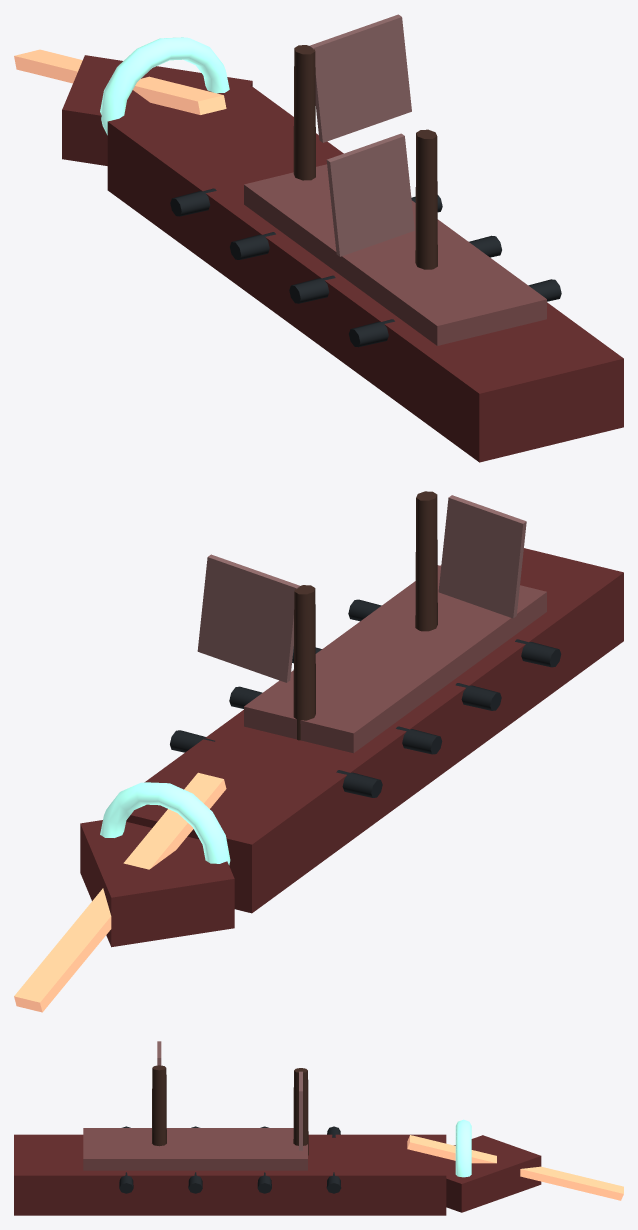
The model's file is ship_main_55.glb.
3 renders of one model, top to bottom at view 1: azimuth 30°, elevation 25°; view 2: azimuth 150°, elevation 25°; view 3: azimuth 270°, elevation 25°, orthographic. The views are drawn at different scales.
Visible parts, largest first — view 1: Hull, Deck_0, Sail_0, Sail_1, Bow, OpenCrescentProw, ProwIdentity, Mast_1, Mast_0, Gun_P_2, Gun_P_0, Gun_P_1 (+1 smaller); view 2: Hull, Deck_0, Bow, Sail_0, Sail_1, ProwIdentity, OpenCrescentProw, Mast_1, Mast_0, Gun_P_2, Gun_P_0, Gun_P_1 (+1 smaller); view 3: Hull, Deck_0, Bow, ProwIdentity, Mast_1, OpenCrescentProw, Mast_0, Sail_0.
Boxes of the visible parts, x1,y1,x2,y2 form: Hull: (107, 86, 623, 462); Deck_0: (244, 164, 546, 345); Sail_0: (309, 14, 411, 142); Sail_1: (326, 133, 414, 256); Bow: (62, 55, 252, 165); OpenCrescentProw: (100, 37, 229, 135); ProwIdentity: (14, 49, 226, 114); Mast_1: (415, 129, 437, 269); Mast_0: (293, 45, 315, 180); Gun_P_2: (289, 275, 335, 303); Gun_P_0: (170, 188, 216, 216); Gun_P_1: (230, 232, 275, 259); Hull: (126, 548, 623, 913); Deck_0: (244, 565, 546, 753); Bow: (80, 820, 234, 947); Sail_0: (197, 554, 299, 682); Sail_1: (438, 495, 526, 618); ProwIdentity: (14, 772, 226, 1012); OpenCrescentProw: (100, 782, 230, 865); Mast_1: (415, 491, 437, 631); Mast_0: (293, 585, 315, 740); Gun_P_2: (455, 683, 501, 710); Gun_P_0: (336, 770, 382, 797); Gun_P_1: (396, 726, 442, 754); Hull: (14, 1134, 446, 1215); Deck_0: (83, 1128, 307, 1170); Bow: (446, 1135, 541, 1212); ProwIdentity: (407, 1135, 623, 1200); Mast_1: (152, 1065, 166, 1146); OpenCrescentProw: (455, 1119, 471, 1177); Mast_0: (293, 1068, 308, 1155); Sail_0: (299, 1071, 302, 1150).
Size of the model in its own units: 2.08 by 2.24 by 9.16.
